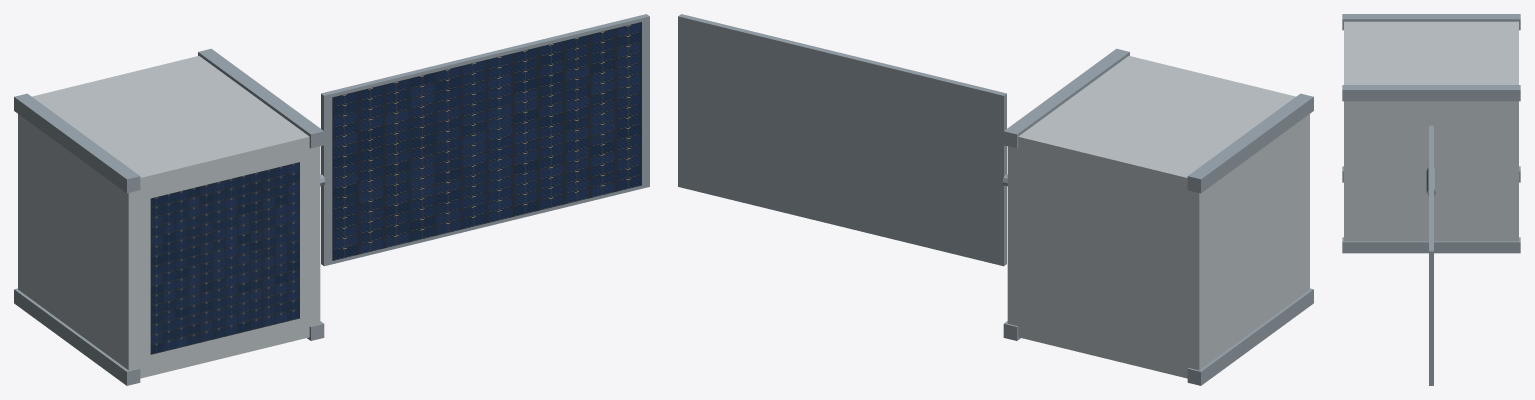
Rendered from ref-cubesat-1u-38083.glb.
3 renders of one model, left to right at view 1: azimuth 30°, elevation 25°; view 2: azimuth 150°, elevation 25°; view 3: azimuth 270°, elevation 25°, orthographic. The views are drawn at different scales.
Visible parts, largest first — view 1: Spacecraft body, Photovoltaic laminates, Body-mounted cells, Dispenser rail (×3), Array frame; view 2: Spacecraft body, Array frame, Dispenser rail (×3); view 3: Spacecraft body, Dispenser rail (×3), Array frame.
Part boxes in pixels (bbox=[...]): Spacecraft body: bbox=[18, 56, 320, 378]; Photovoltaic laminates: bbox=[332, 22, 641, 260]; Body-mounted cells: bbox=[150, 162, 299, 354]; Dispenser rail (×3): bbox=[14, 48, 324, 385]; Array frame: bbox=[321, 14, 649, 266]; Spacecraft body: bbox=[1007, 56, 1309, 378]; Array frame: bbox=[678, 14, 1006, 266]; Dispenser rail (×3): bbox=[1003, 48, 1313, 385]; Spacecraft body: bbox=[1344, 21, 1518, 241]; Dispenser rail (×3): bbox=[1342, 14, 1520, 253]; Array frame: bbox=[1429, 125, 1433, 385].
Bounding box in the file's own units: 0.3015 × 0.103 × 0.102.
Materials: 3 (1 with a texture image).
